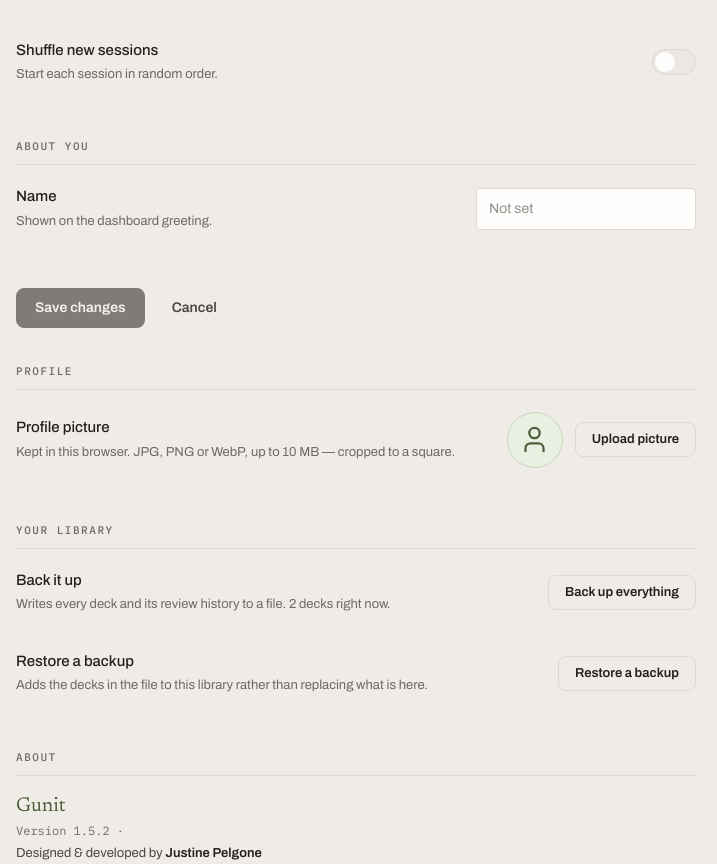
Test: backing the library up › says how much it saved
The width and height of the screenshot is (717, 864).
(page scrolled)
Click the button "Back up everything" at (622, 593), box [548,575,696,610]
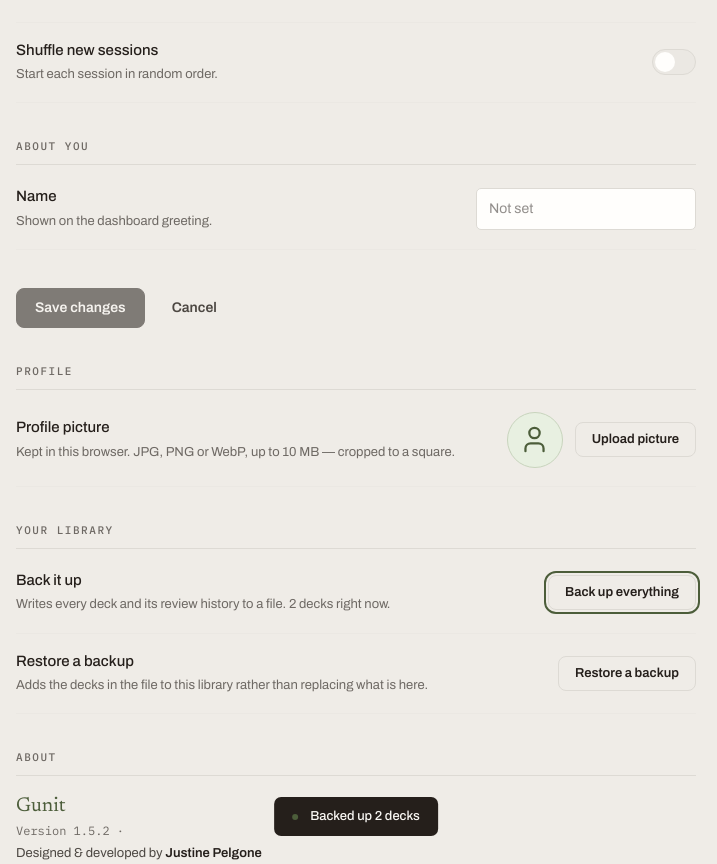
Expected: the text "Backed up 2 decks" is shown, [310,810,420,823]
